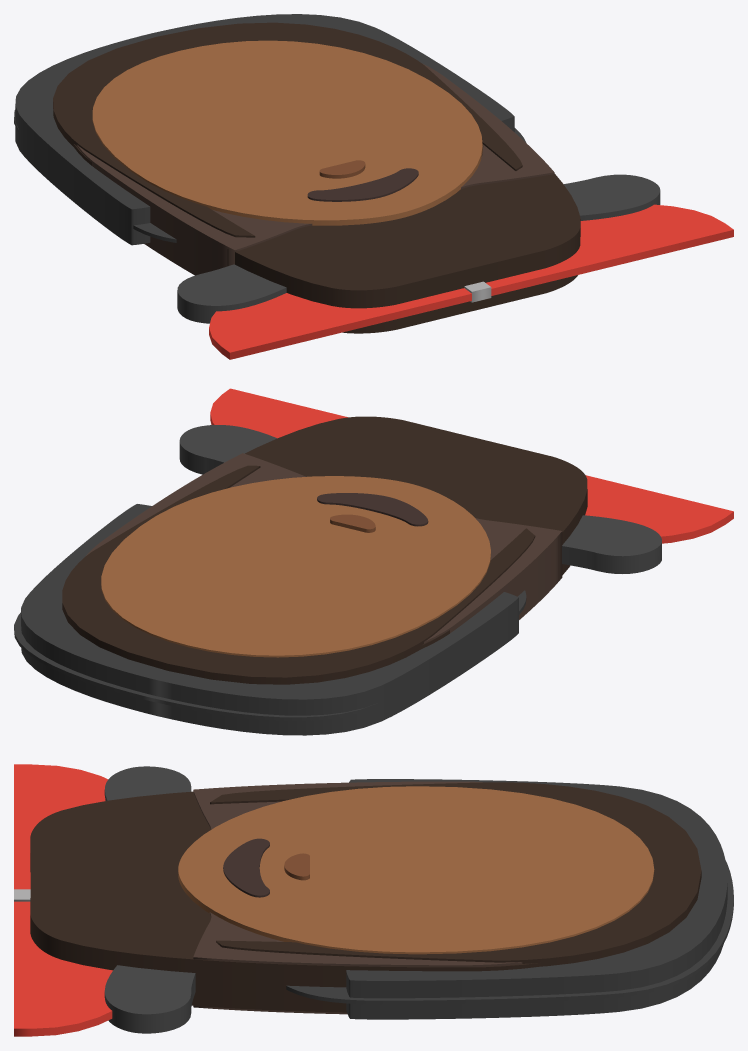
The model's file is emoji_u1f482_1f3fe_200d_2640.glb.
The picture shows the model from 3 angles, top to bottom: view 1: azimuth 30°, elevation 25°; view 2: azimuth 150°, elevation 25°; view 3: azimuth 270°, elevation 25°; orthographic projection. The views are drawn at different scales.
Visible parts, largest first — view 1: emoji_u1f482_1f3fe_200d_2640; view 2: emoji_u1f482_1f3fe_200d_2640; view 3: emoji_u1f482_1f3fe_200d_2640.
Boxes of the visible parts, bbox=[...] form: emoji_u1f482_1f3fe_200d_2640: bbox=[14, 14, 733, 359]; emoji_u1f482_1f3fe_200d_2640: bbox=[14, 388, 733, 735]; emoji_u1f482_1f3fe_200d_2640: bbox=[14, 764, 733, 1036].
Bounding box in the file's own units: 0.0293 × 0.0034 × 0.0338.
